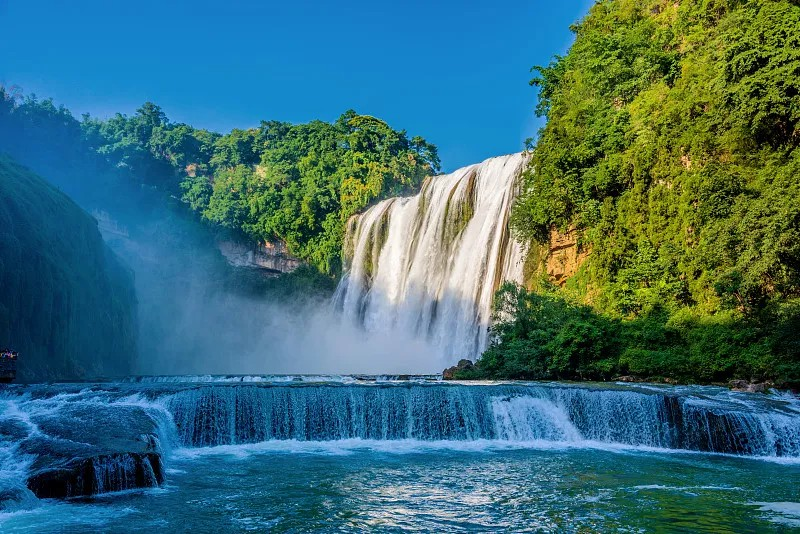Huangguoshu: (343, 149, 525, 371)
